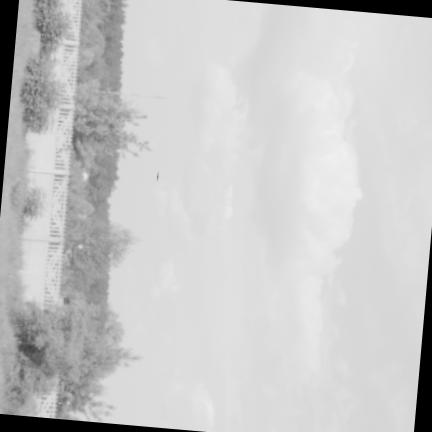Shahed: (156, 172, 158, 181)
